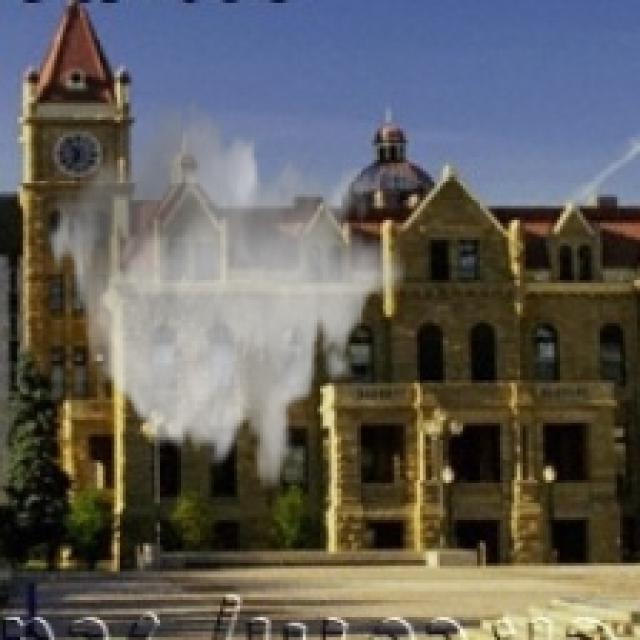Smoke: (46, 92, 408, 494)
